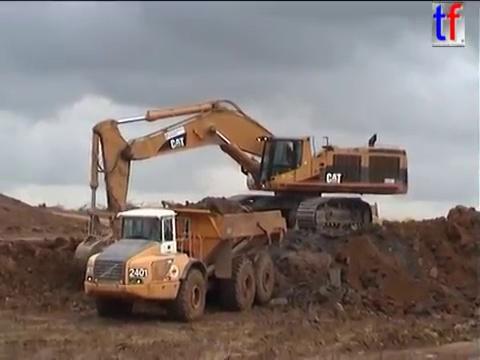excavator: (71, 97, 411, 276)
truck: (81, 204, 290, 324), (330, 201, 381, 230)
